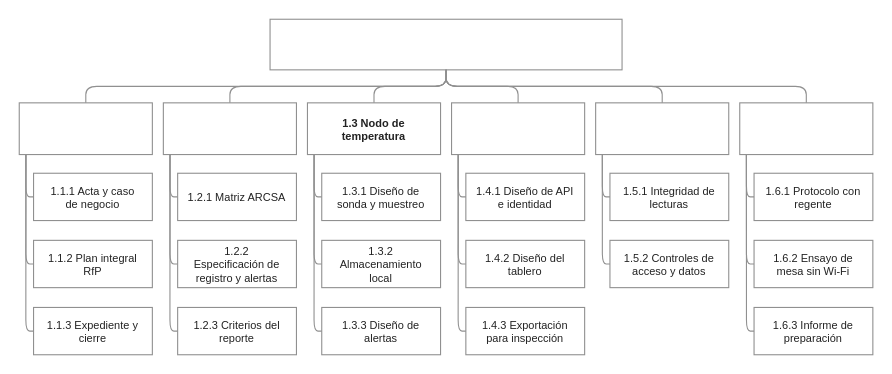
Some shapes in this 892 by 374 pixel diagram are drawn without their labels. Each missing label, with the centre of its shape:
1 Registro automático y auditable de temperatura para farmacias: (x=445, y=44)
1.1 Gestión y gobernanza: (x=85, y=128)
1.2 Cumplimiento y requisitos: (x=229, y=128)
1.4 Plataforma del regente: (x=517, y=128)
1.5 Seguridad e integridad: (x=662, y=128)
1.6 Preparación del piloto: (x=806, y=128)
